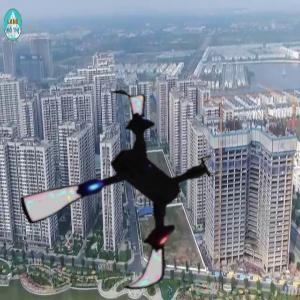drone: (17, 90, 225, 298)
